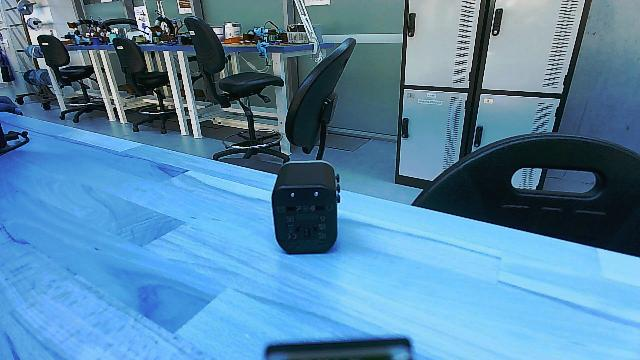adapter: (266, 158, 340, 264)
